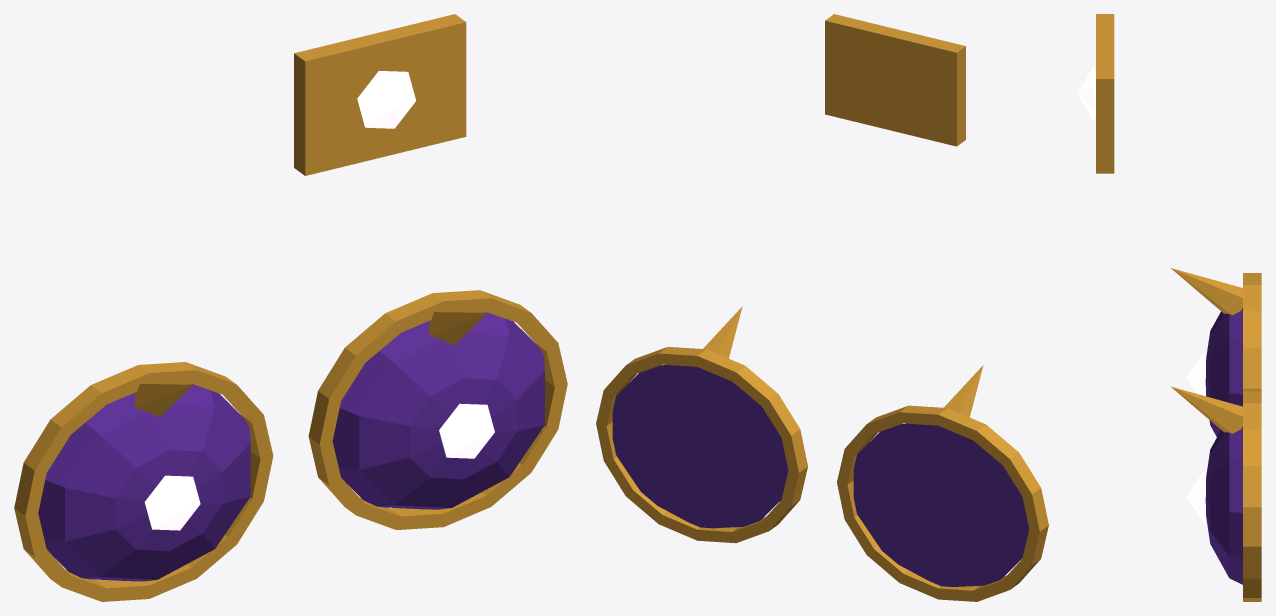
The model's file is armor_knight_legs_epic_orc.glb.
3 renders of one model, left to right at view 1: azimuth 30°, elevation 25°; view 2: azimuth 150°, elevation 25°; view 3: azimuth 270°, elevation 25°, orthographic. The views are drawn at different scales.
Parts seen in each view (by area): view 1: armor_knight_legs_epic_orc__calf_r, armor_knight_legs_epic_orc__calf_l, armor_knight_legs_epic_orc__pelvis; view 2: armor_knight_legs_epic_orc__calf_r, armor_knight_legs_epic_orc__calf_l, armor_knight_legs_epic_orc__pelvis; view 3: armor_knight_legs_epic_orc__calf_l, armor_knight_legs_epic_orc__calf_r, armor_knight_legs_epic_orc__pelvis.
Boxes of the visible parts, box(x1,y1,x2,y2) form: armor_knight_legs_epic_orc__calf_r: box(14, 362, 273, 601); armor_knight_legs_epic_orc__calf_l: box(308, 290, 567, 529); armor_knight_legs_epic_orc__pelvis: box(294, 14, 466, 175); armor_knight_legs_epic_orc__calf_r: box(837, 365, 1048, 601); armor_knight_legs_epic_orc__calf_l: box(596, 306, 807, 543); armor_knight_legs_epic_orc__pelvis: box(825, 14, 965, 146); armor_knight_legs_epic_orc__calf_l: box(1170, 386, 1261, 601); armor_knight_legs_epic_orc__calf_r: box(1171, 268, 1261, 436); armor_knight_legs_epic_orc__pelvis: box(1077, 14, 1114, 173).
Bounding box in the file's own units: 33.67 × 34.8 × 11.99.
